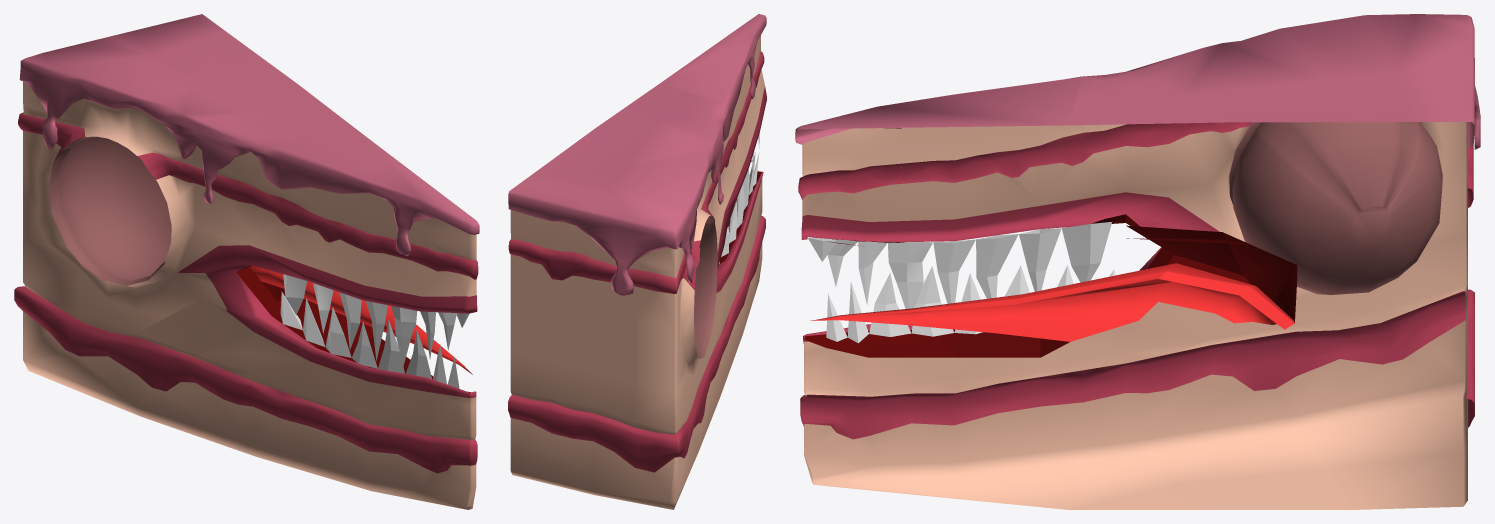
File: CakeComplete2-1b.obj
3 views of the same model, side by side, from view 1: azimuth 30°, elevation 25°; view 2: azimuth 150°, elevation 25°; view 3: azimuth 270°, elevation 25° (orthographic). The views are drawn at different scales.
Visible parts, largest first — view 1: CakeComplete2-1b; view 2: CakeComplete2-1b; view 3: CakeComplete2-1b.
Boxes of the visible parts, left/top/right/bottom form: CakeComplete2-1b: left=14, top=14, right=479, bottom=509; CakeComplete2-1b: left=508, top=14, right=766, bottom=509; CakeComplete2-1b: left=795, top=14, right=1480, bottom=509.
Bounding box in the file's own units: 1.54 × 2.57 × 4.
